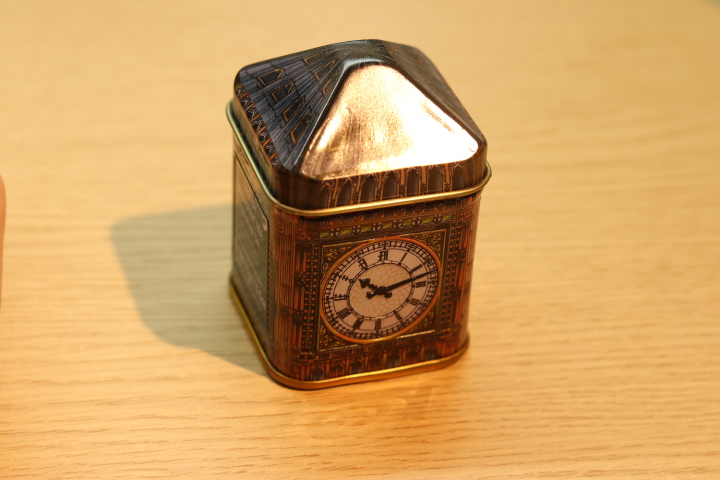Big Ben: (196, 25, 502, 408)
